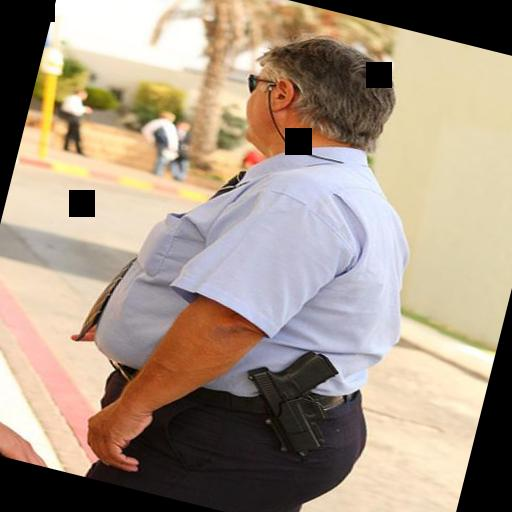Handgun: (224, 333, 348, 464)
